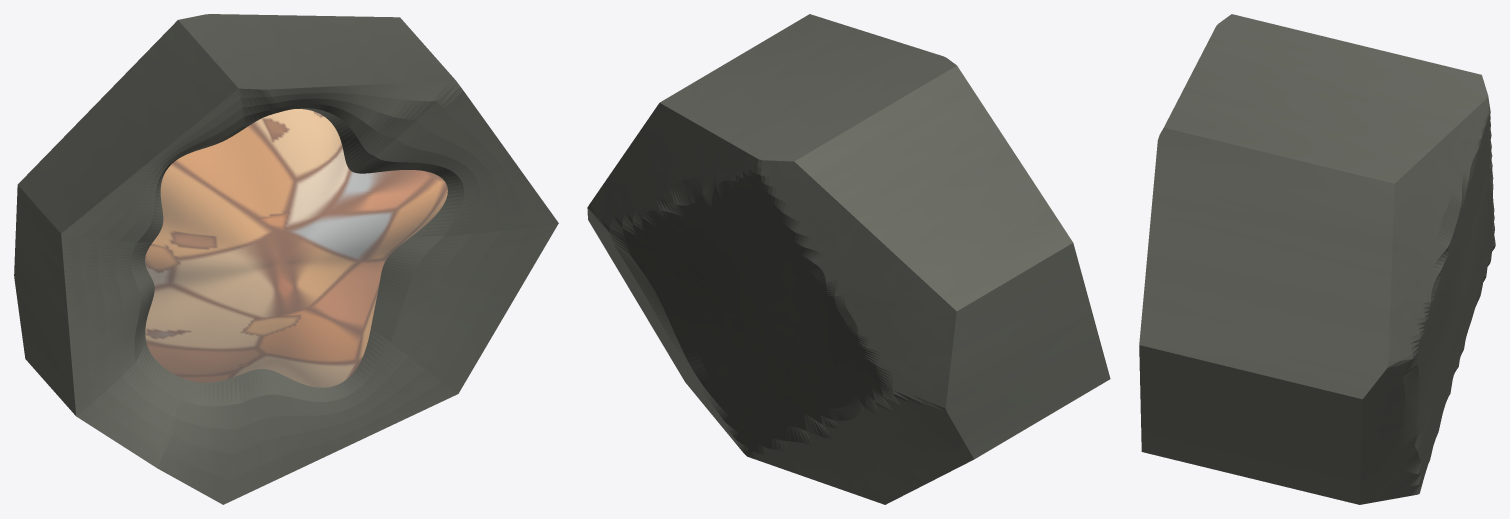
File: corealm_item_fire_opal.glb
3 renders of one model, left to right at view 1: azimuth 30°, elevation 25°; view 2: azimuth 150°, elevation 25°; view 3: azimuth 270°, elevation 25°, orthographic. The views are drawn at different scales.
Visible parts, largest first — view 1: corealm_item_fire_opal; view 2: corealm_item_fire_opal; view 3: corealm_item_fire_opal.
Boxes of the visible parts, box(x1,y1,x2,y2) form: corealm_item_fire_opal: box(14, 14, 558, 504); corealm_item_fire_opal: box(587, 14, 1110, 504); corealm_item_fire_opal: box(1139, 14, 1495, 504).
Size of the model in its own units: 0.3475 by 0.2777 by 0.2033.
2 materials, 1 textured.
